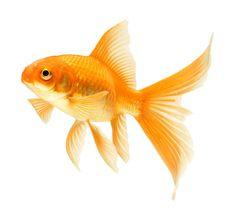goldfish: (15, 33, 207, 163)
